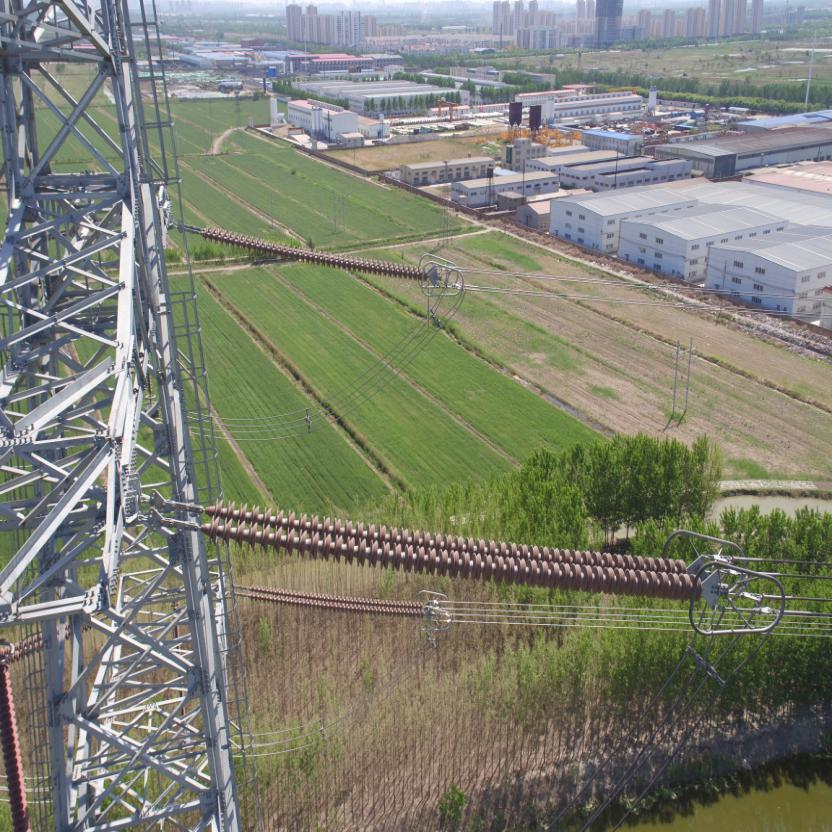insulator: (176, 492, 714, 604), (188, 222, 434, 281), (237, 584, 430, 619)
